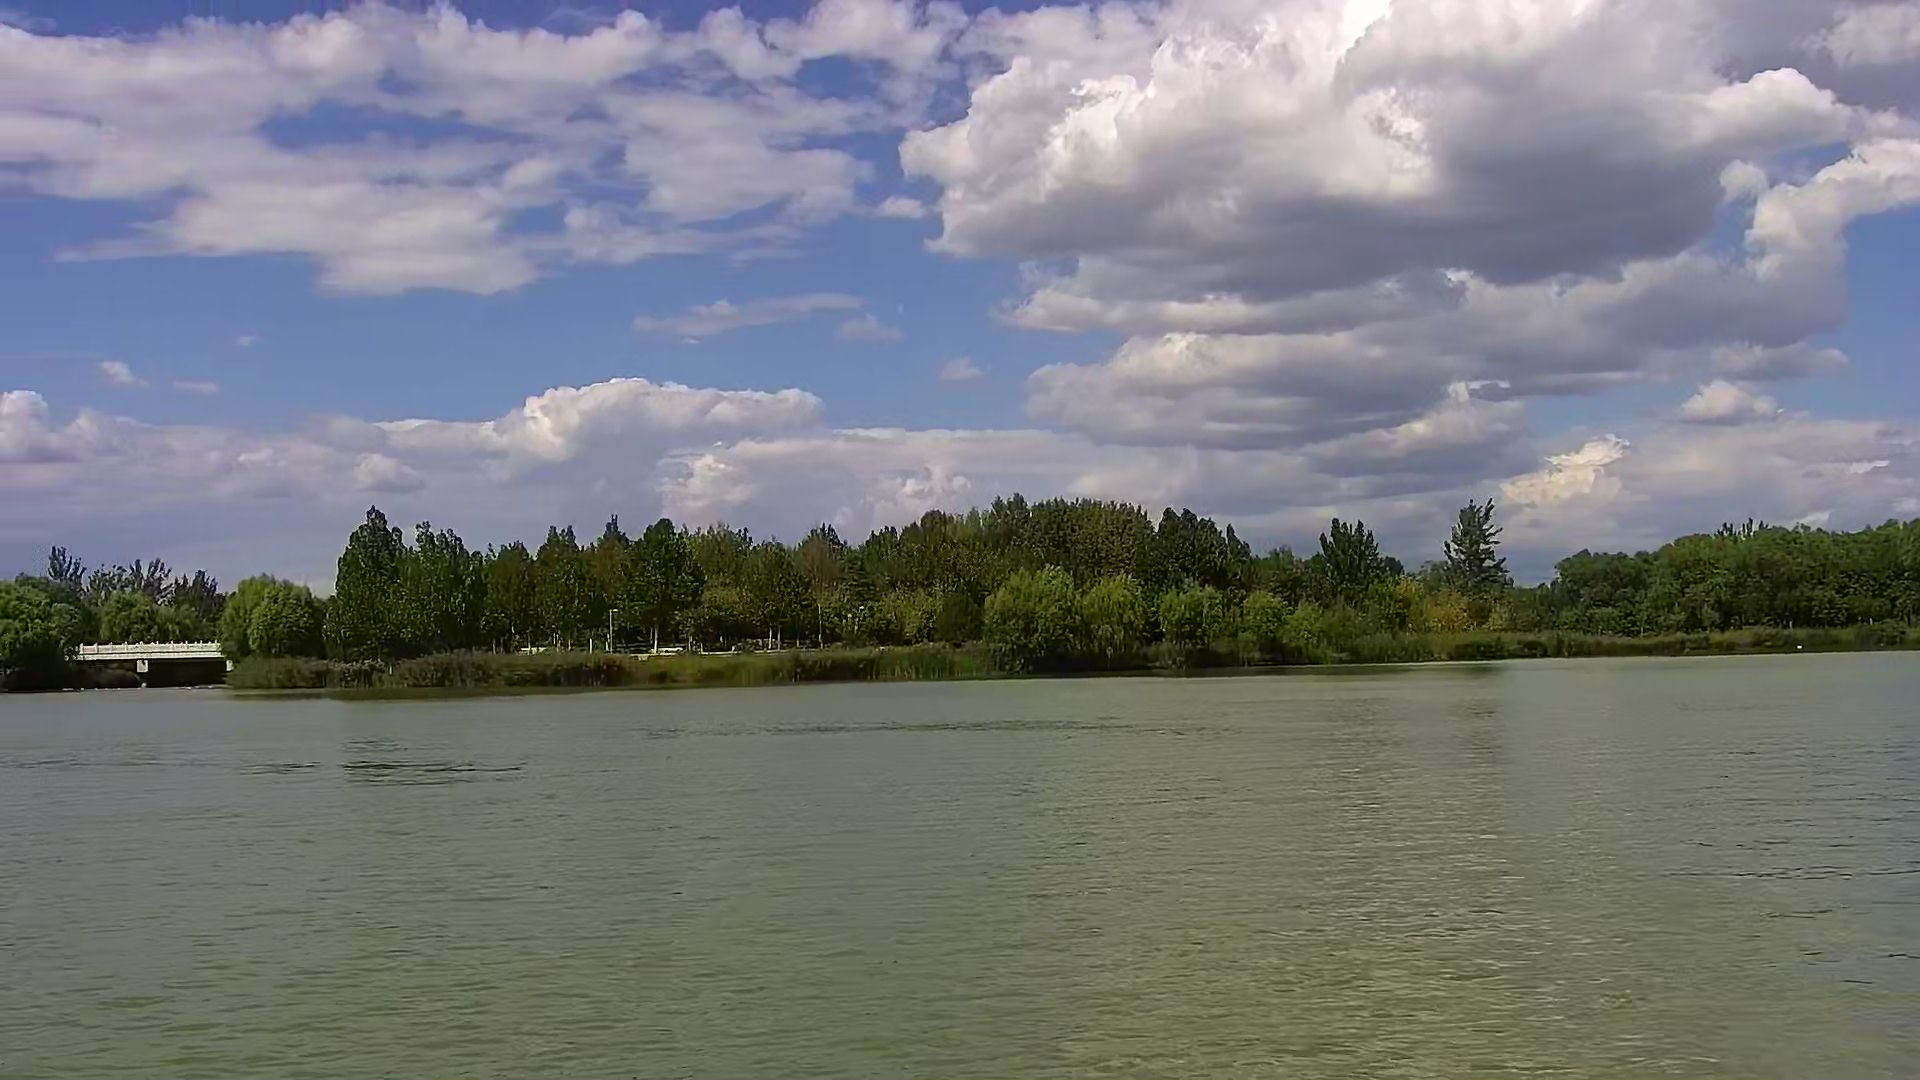bridge: (75, 642, 229, 686)
